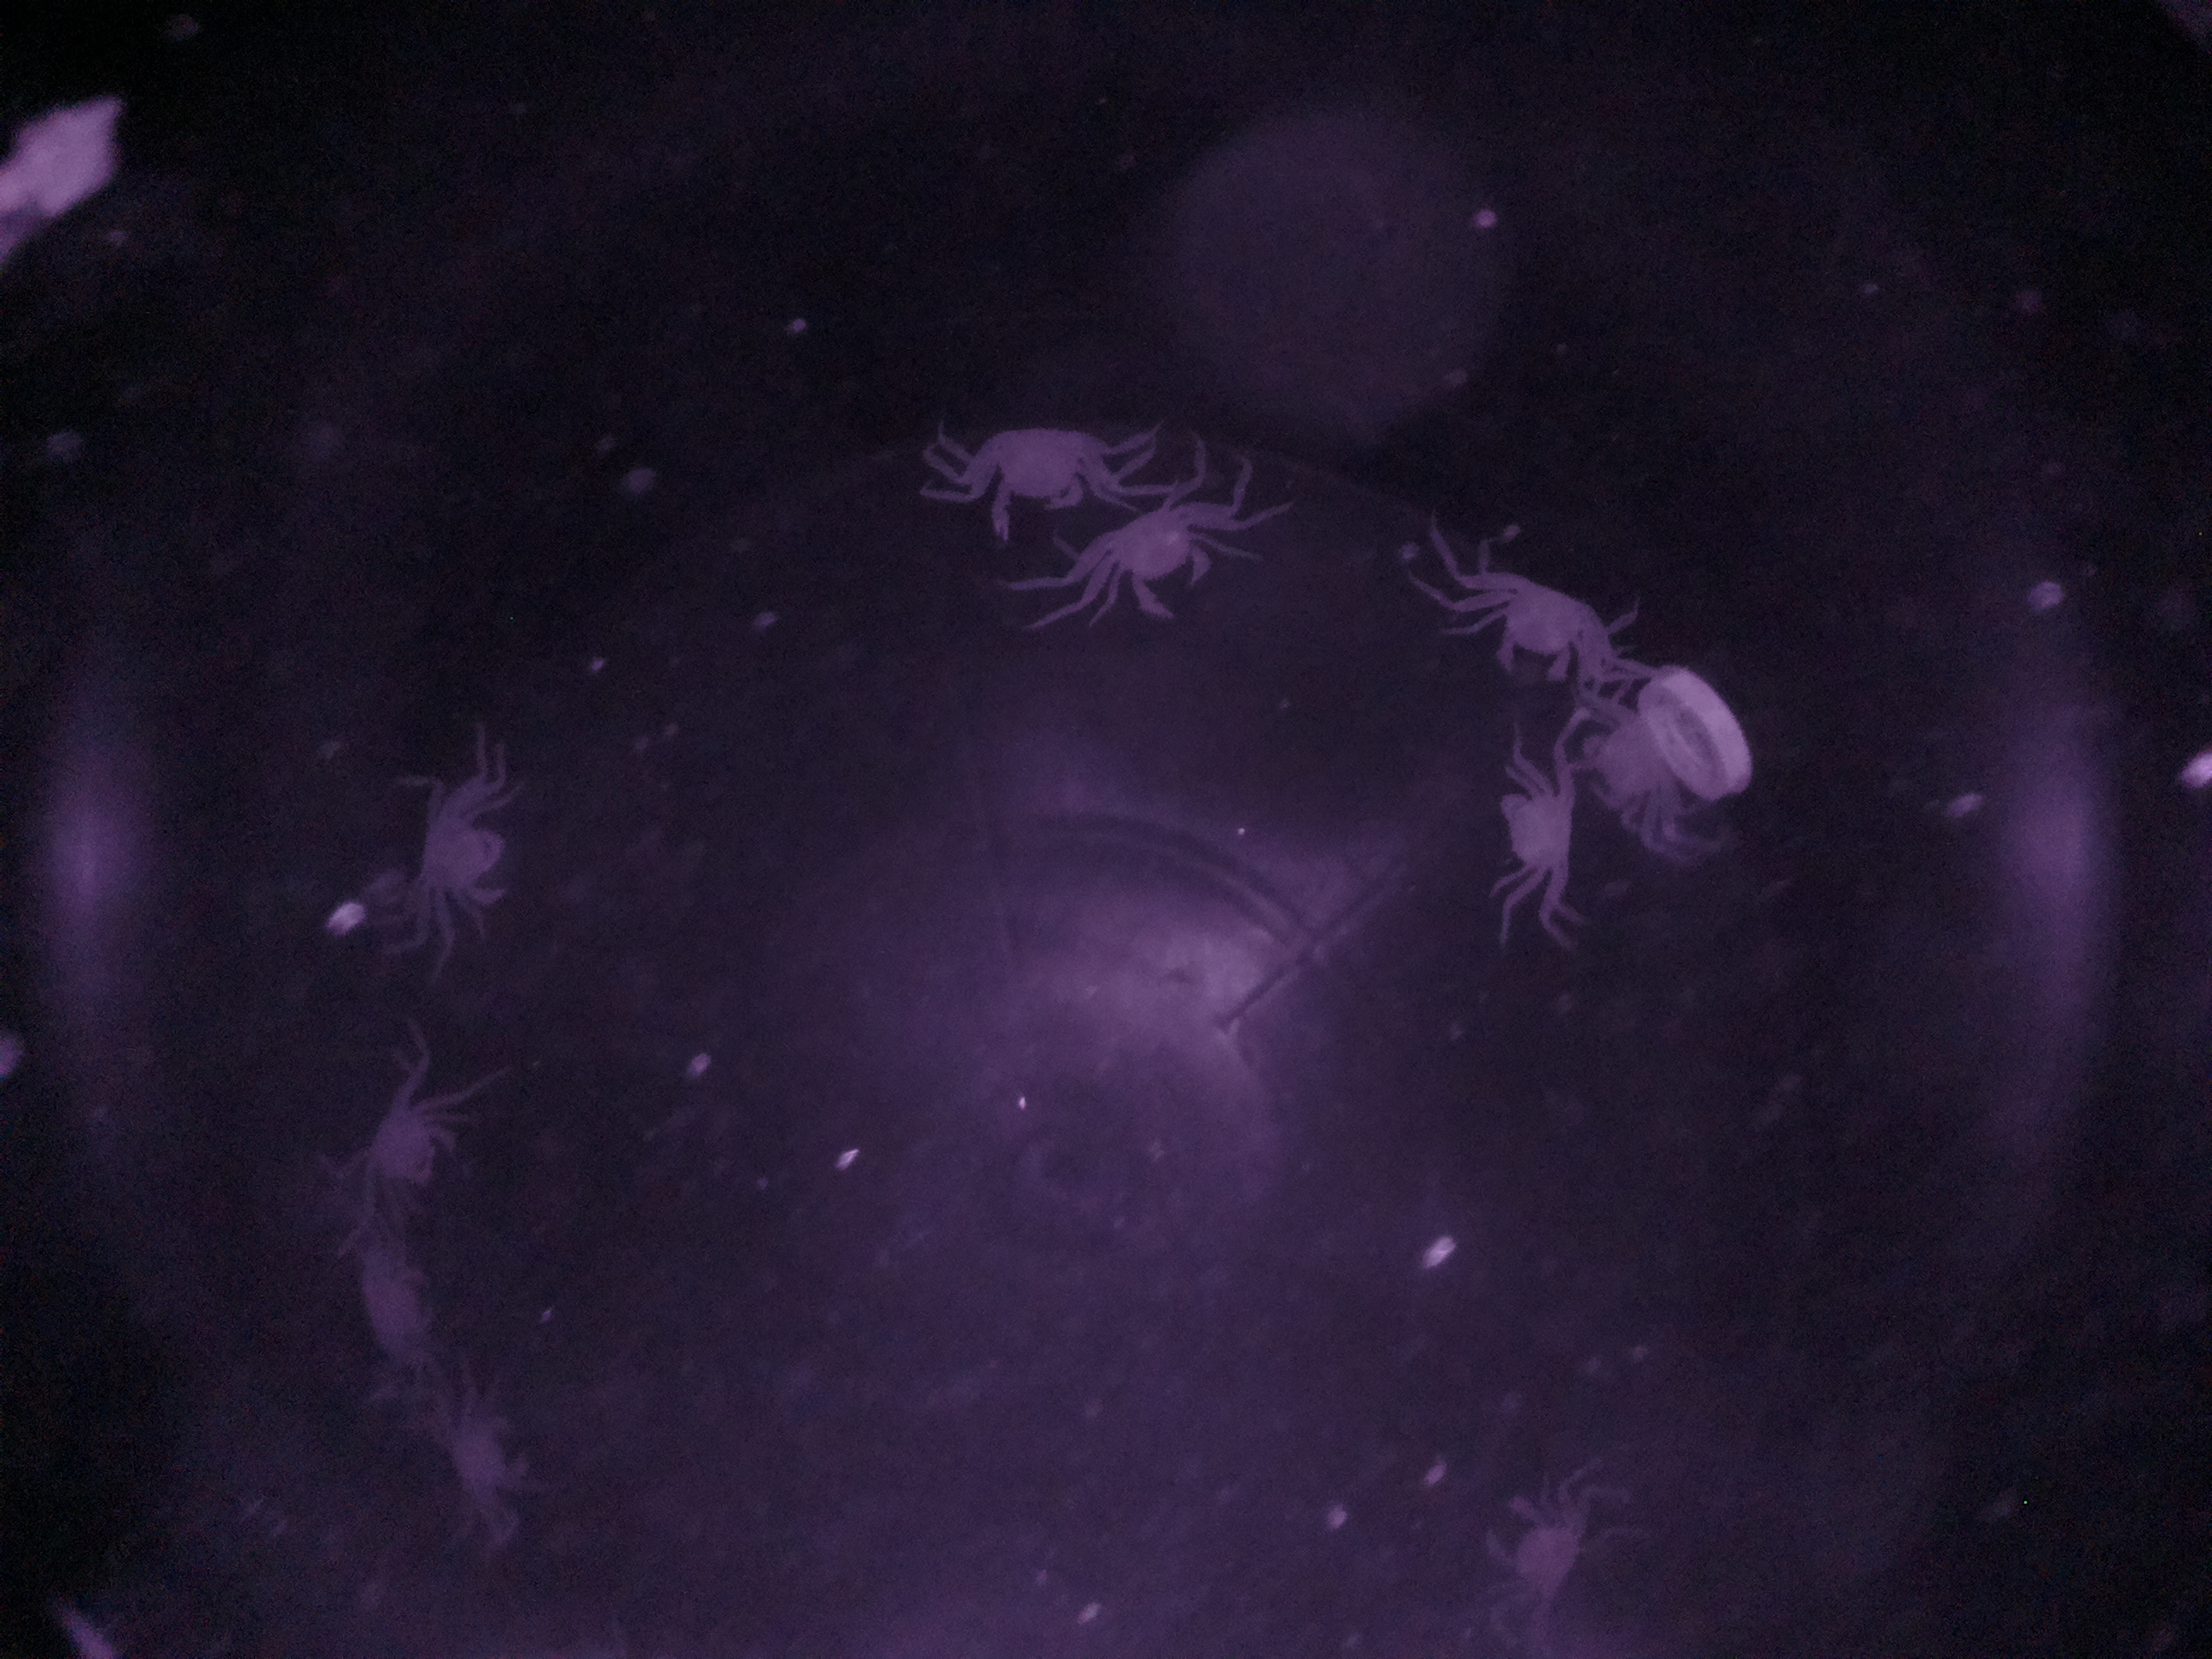Crab: (1057, 465, 1235, 641), (937, 382, 1136, 532), (338, 1033, 477, 1243), (1444, 547, 1634, 699), (378, 767, 529, 948), (1468, 741, 1604, 918)
